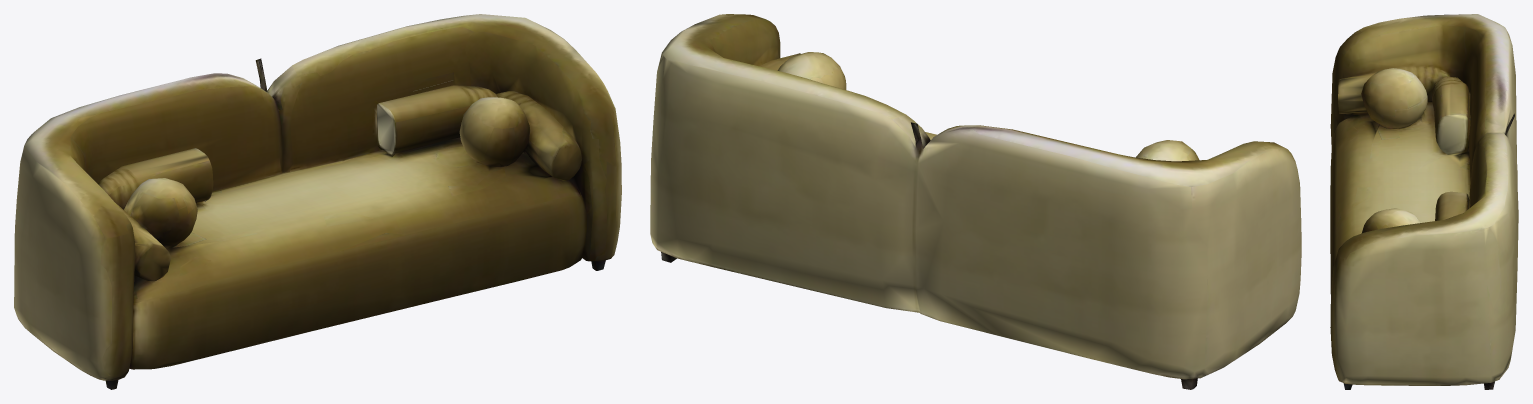
3 renders of one model, left to right at view 1: azimuth 30°, elevation 25°; view 2: azimuth 150°, elevation 25°; view 3: azimuth 270°, elevation 25°, orthographic. The views are drawn at different scales.
Parts seen in each view (by area): view 1: geometry_0; view 2: geometry_0; view 3: geometry_0.
Boxes of the visible parts, box(x1,y1,x2,y2) form: geometry_0: box(14, 14, 621, 389); geometry_0: box(650, 14, 1301, 389); geometry_0: box(1330, 14, 1518, 389).
Bounding box in the file's own units: 0.9989 × 0.3666 × 0.3533.
1 material, 1 textured.
